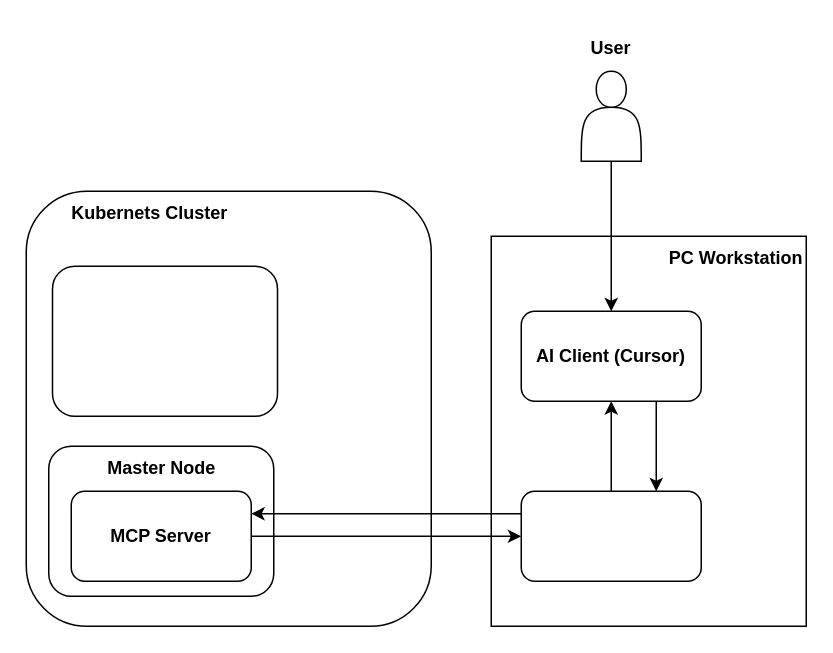
Image size: 833x653. Some labels were removed from this diagram. The centre of each missing label's shape, as x and y in pixels:
"MCP Client" goes at point 610,535.
"Worker Node" goes at point 164,340.
